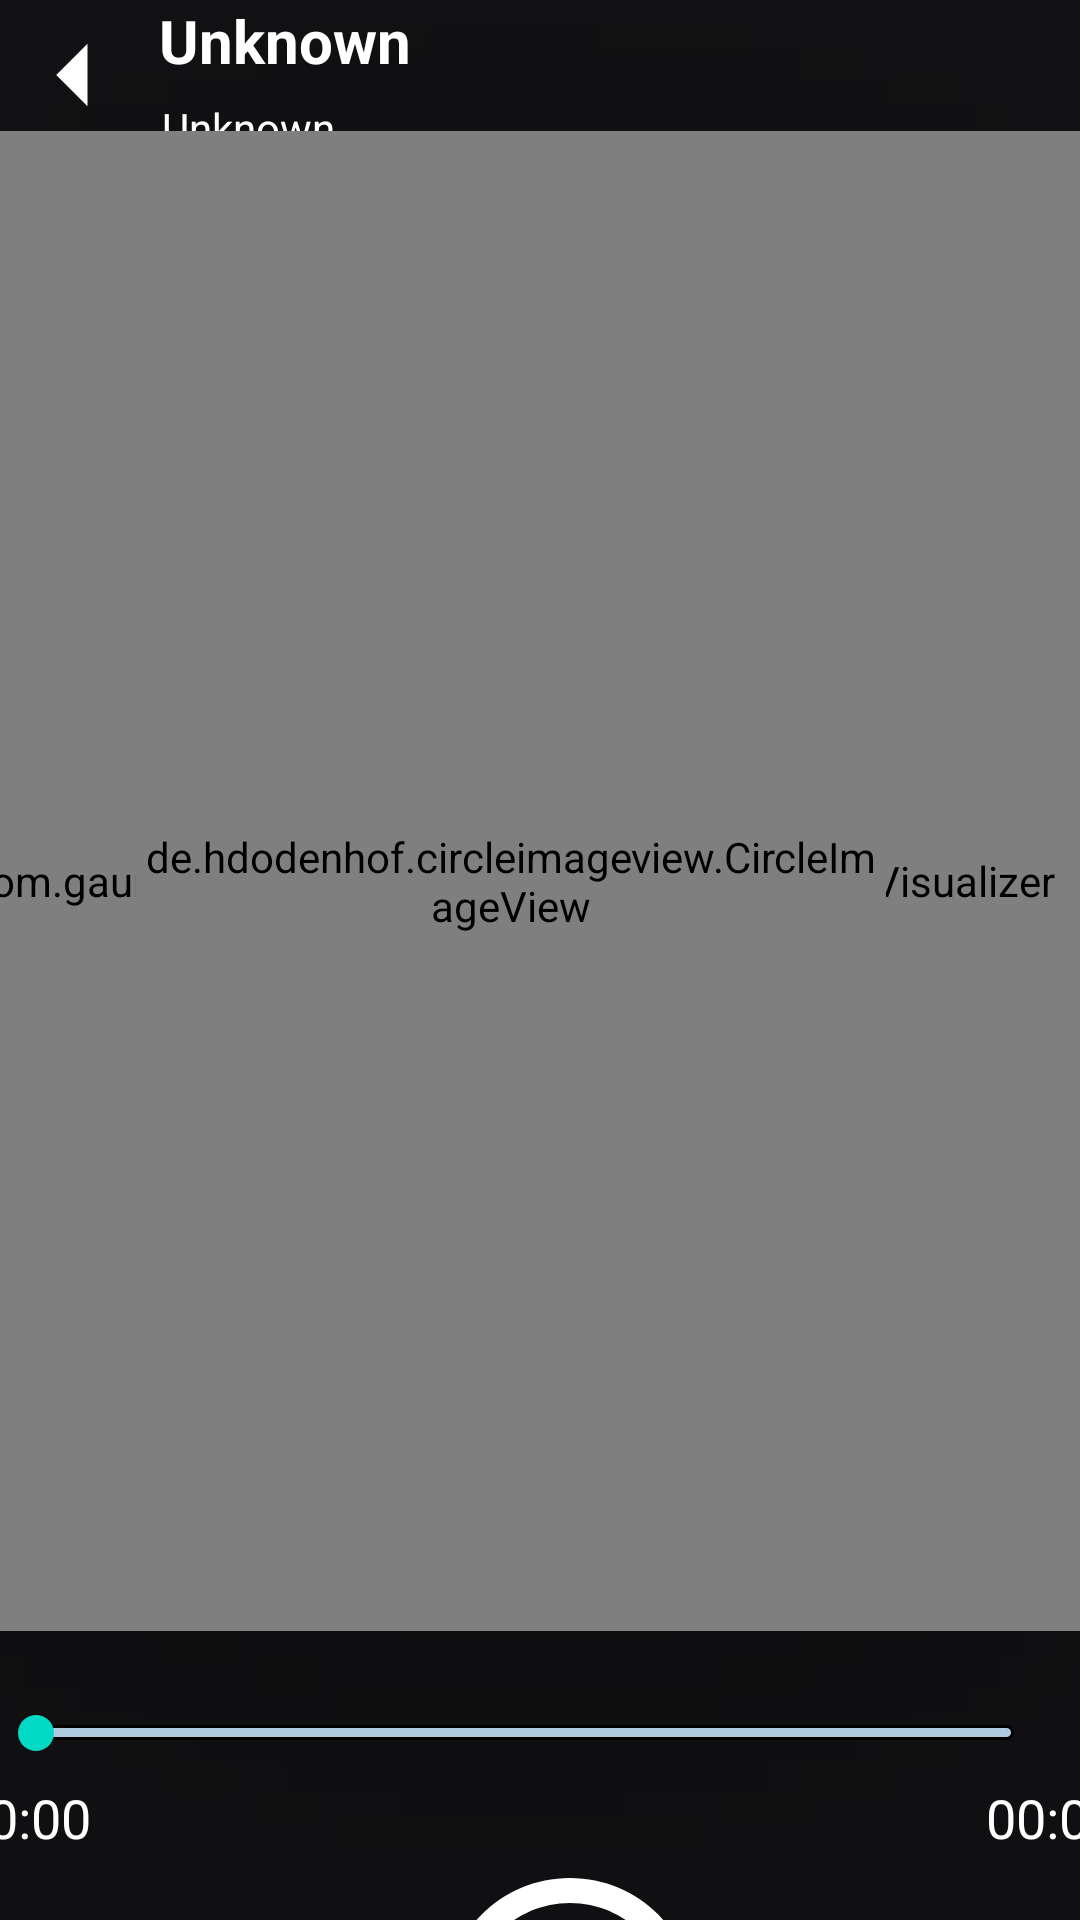

Icons on this 1080 x 1920 Android screen, each with the point to tap as (x,y):
arrow left: (75,75)
